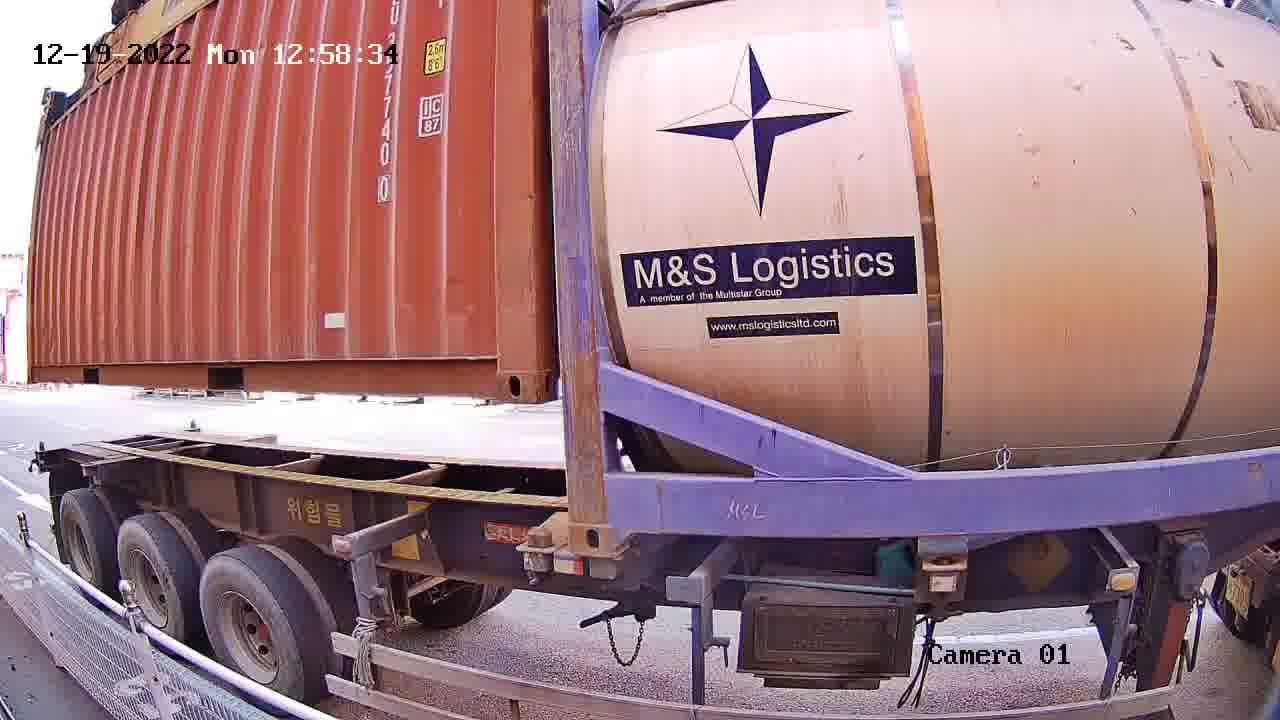Cone: (525, 527, 552, 584), (588, 557, 624, 582)
Hole_L: (570, 481, 644, 555)
Hole_R: (462, 332, 537, 401)
Tire: (200, 558, 302, 690), (117, 525, 180, 630), (58, 495, 106, 582)
